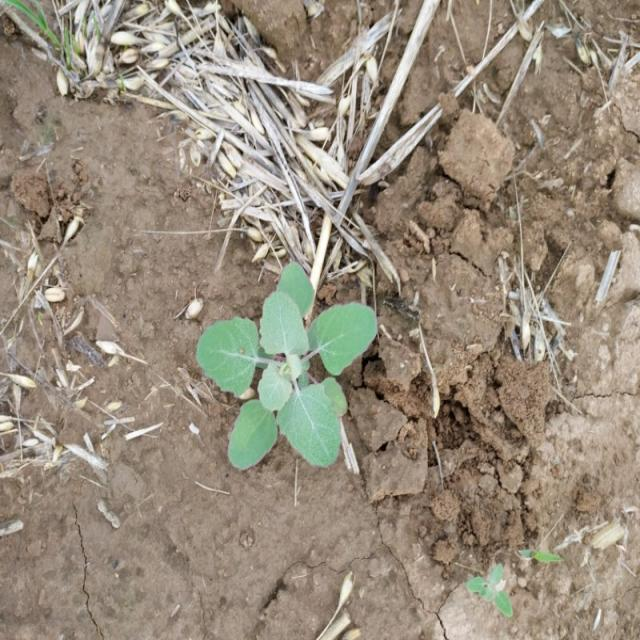goosefoots: (192, 262, 376, 476)
